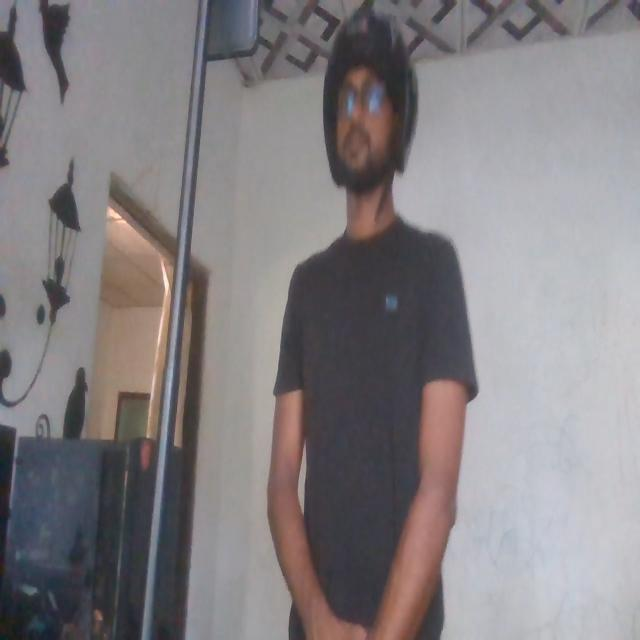Helmet_Wearer: (310, 0, 418, 260)
Person: (274, 0, 478, 640)
